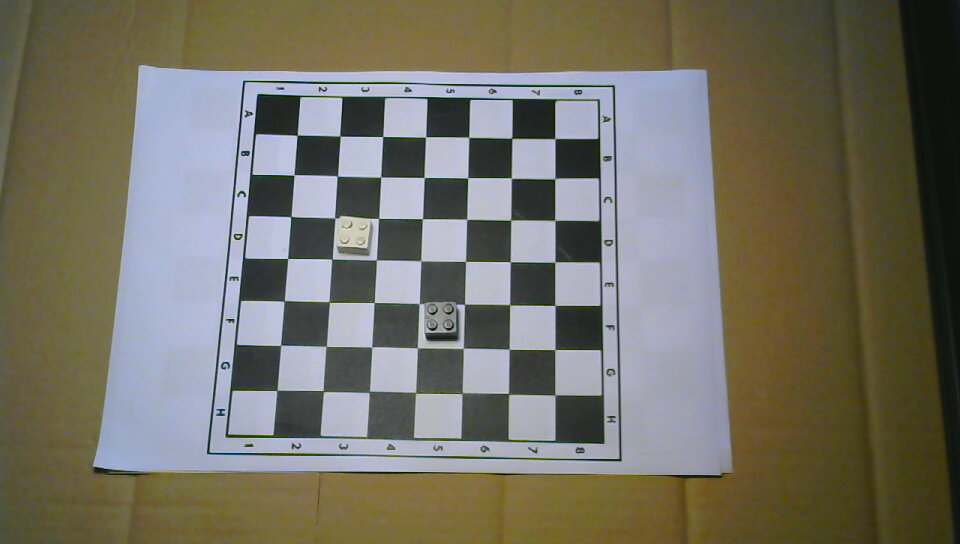bp: (422, 301, 460, 342)
wp: (336, 215, 373, 257)
